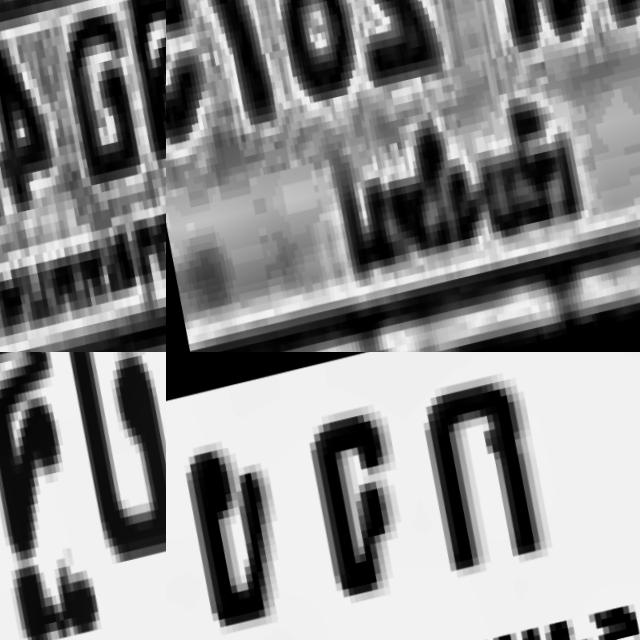license-plate: (166, 0, 640, 352), (166, 352, 640, 640), (0, 0, 166, 352), (0, 352, 166, 640)
